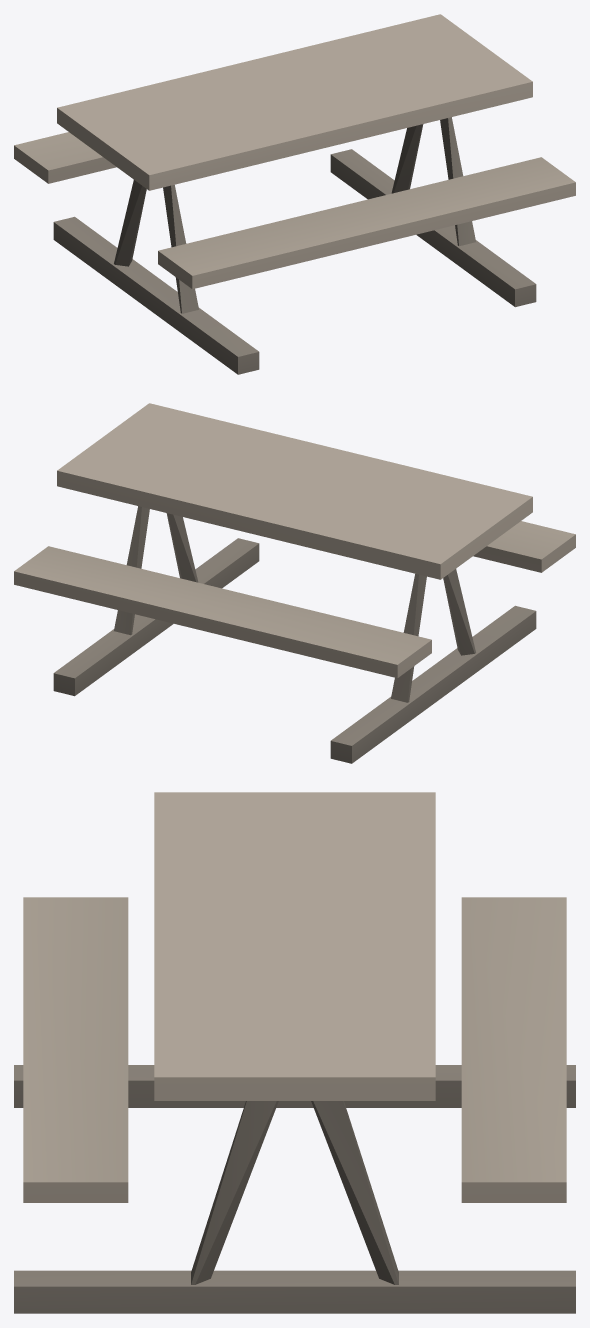
File: picnic.lod1.glb
The picture shows the model from 3 angles, top to bottom: view 1: azimuth 30°, elevation 25°; view 2: azimuth 150°, elevation 25°; view 3: azimuth 270°, elevation 25°; orthographic projection. The views are drawn at different scales.
Bounding box in the file's own units: 1.8 × 0.8048 × 1.5.
